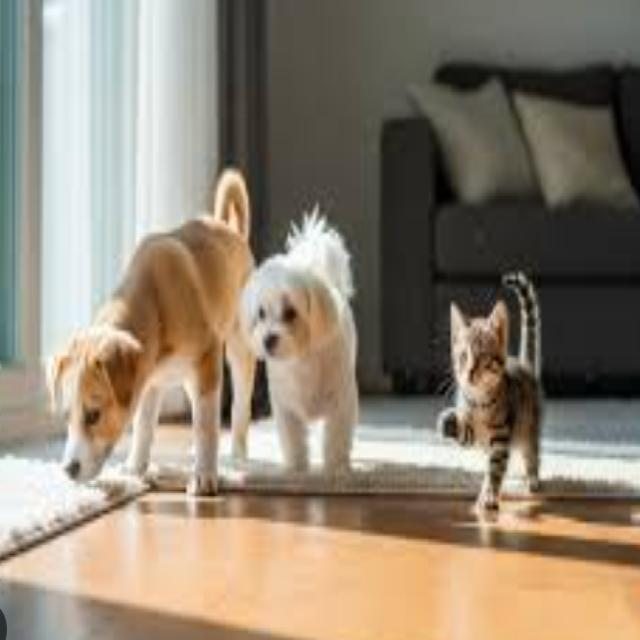cats: (442, 281, 553, 521)
dogs: (59, 176, 243, 506), (244, 193, 374, 478)
